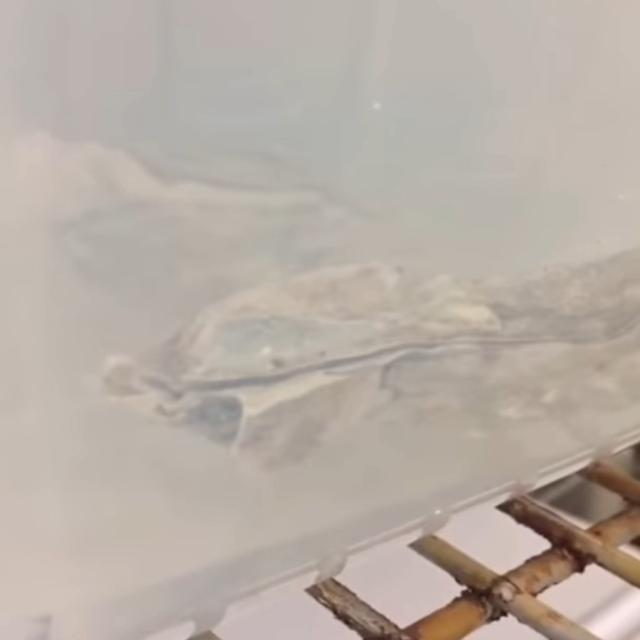Oyster-Closed: (92, 262, 640, 473)
Oyster-Indeterminate: (32, 119, 350, 239)
